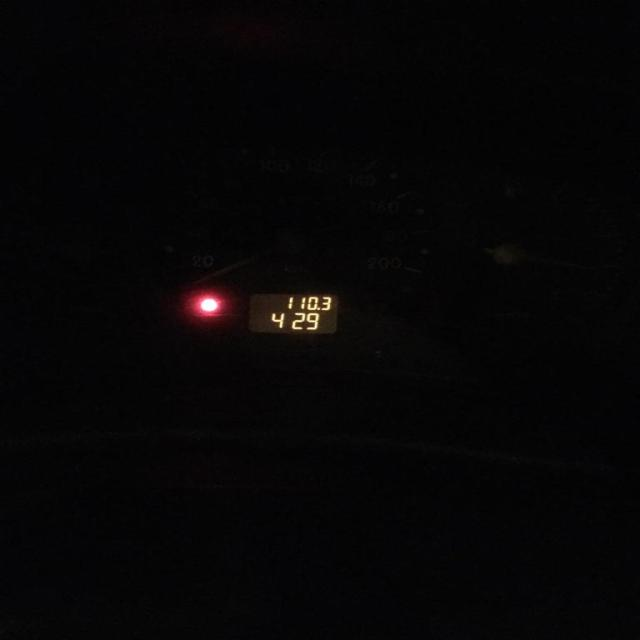odometer: (246, 292, 339, 334)
